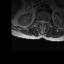CCS_normal: (41, 18, 43, 28)
LFS_normal: (46, 19, 48, 25)
LLS_normal: (43, 18, 46, 25)
RFS_normal: (37, 18, 39, 25)
RLS_normal: (39, 18, 41, 25)
